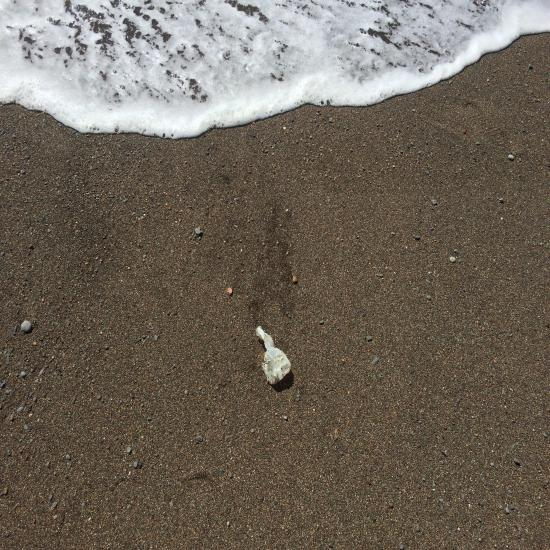Other plastic bottle: (256, 326, 291, 384)
